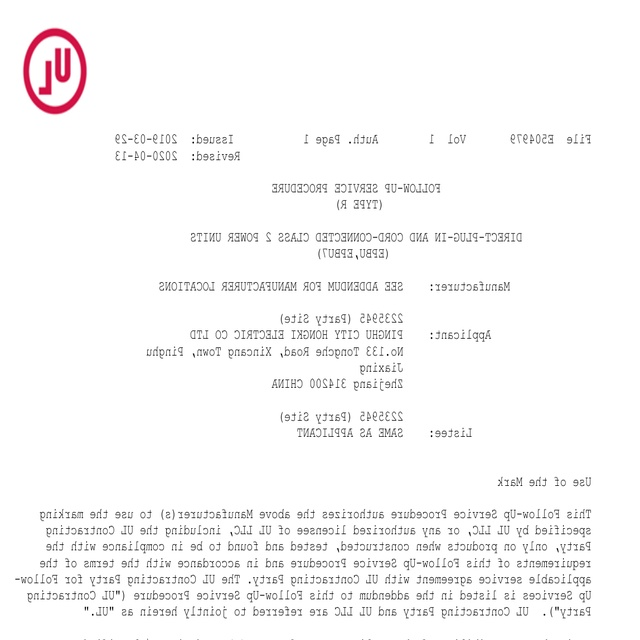ul: (22, 27, 89, 117)
